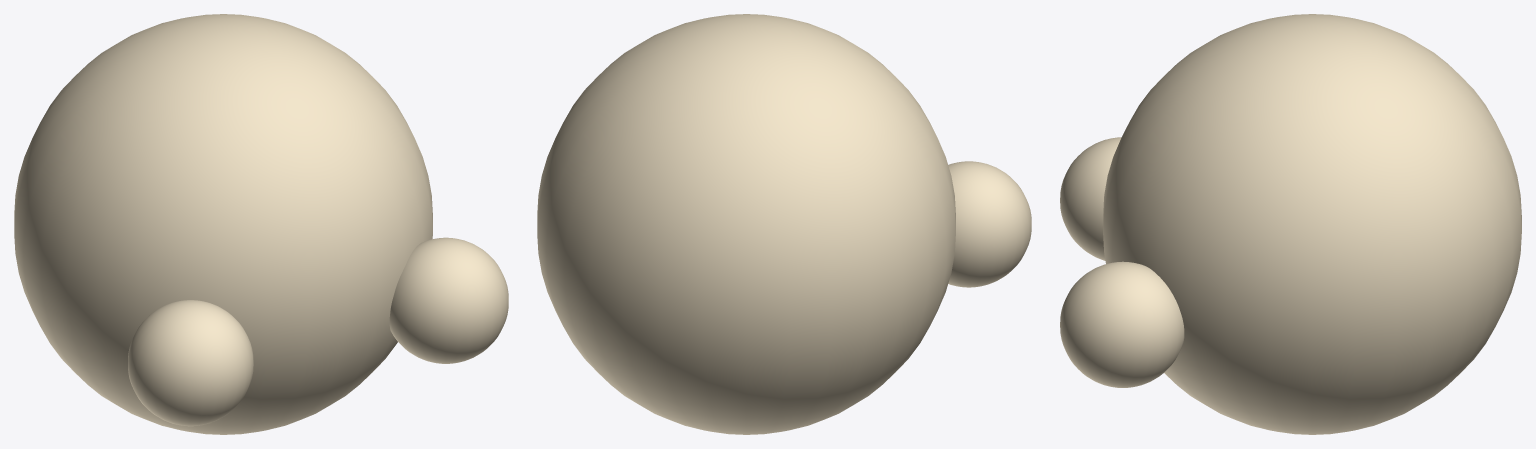
File: image.png.gltf
The picture shows the model from 3 angles, left to right: view 1: azimuth 30°, elevation 25°; view 2: azimuth 150°, elevation 25°; view 3: azimuth 270°, elevation 25°; orthographic projection.
Parts seen in each view (by area): view 1: Sphere (×3); view 2: Sphere (×2); view 3: Sphere (×3).
Part boxes in pixels (x1=…): Sphere (×3): x1=14, y1=14, x2=508, y2=434; Sphere (×2): x1=537, y1=14, x2=1031, y2=434; Sphere (×3): x1=1060, y1=14, x2=1521, y2=434.
Size of the model in its own units: 2 by 2 by 2.19.
